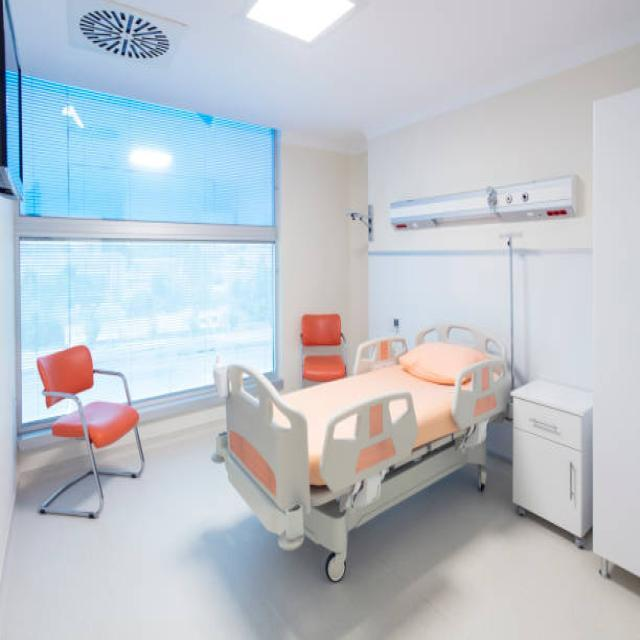Saline Stand: (487, 223, 519, 483)
bed: (212, 321, 510, 581)
chair: (27, 329, 154, 526), (291, 307, 354, 403)
